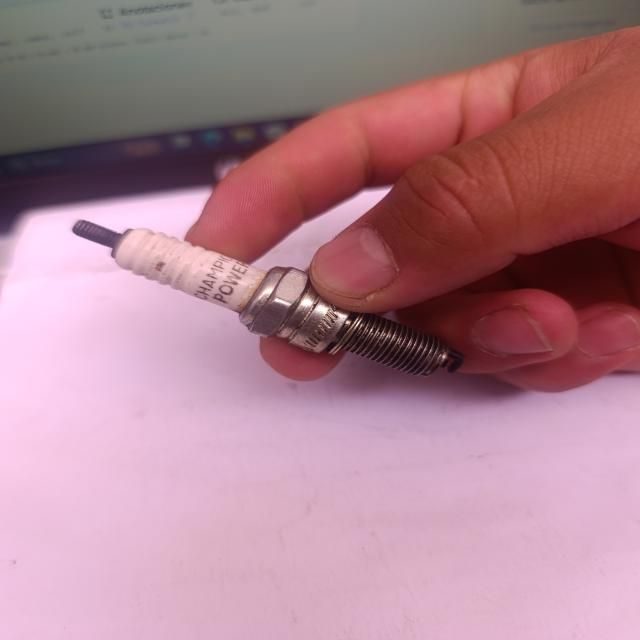bujia: (72, 220, 463, 376)
